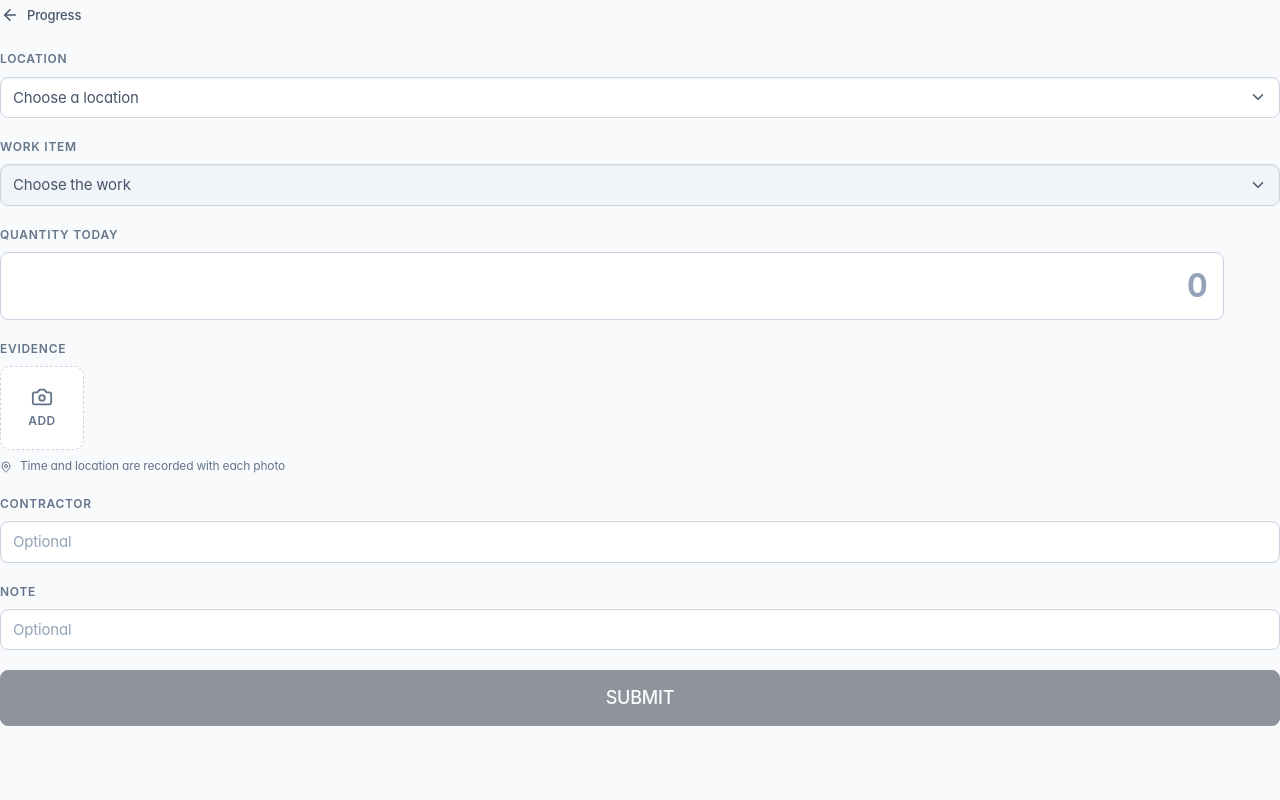
Test: S-M03 progress entry › the location picker offers only LEAVES, never a floor
Click the button "Choose a location" at (76, 97), box left=0, top=77, right=1279, bottom=118
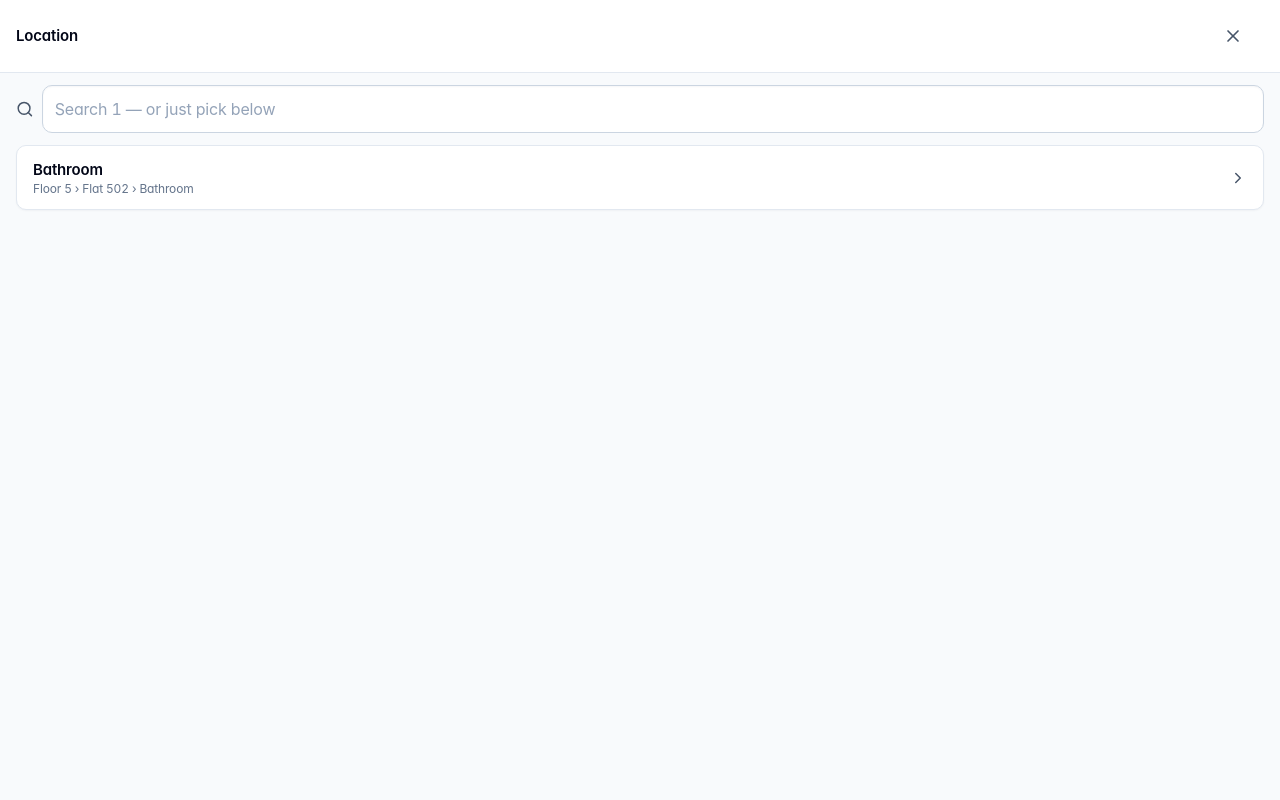
Now the text "Bathroom" is shown, box left=33, top=160, right=103, bottom=179
